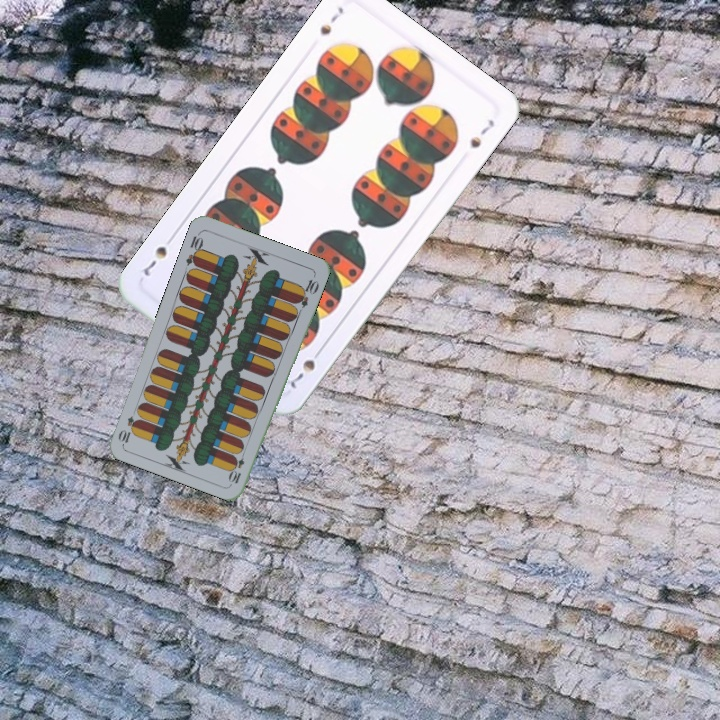E10: (182, 228, 206, 269), (226, 446, 248, 486)
S7: (286, 343, 326, 390), (316, 2, 347, 38)
